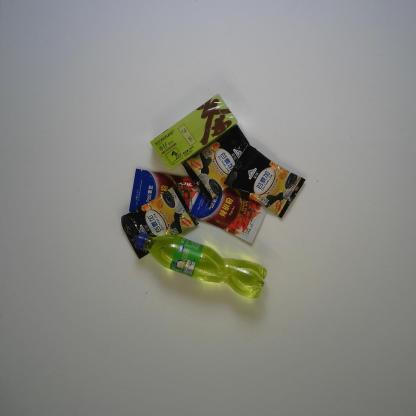Drink: (134, 231, 267, 299)
Instant Drink: (149, 93, 239, 171), (223, 142, 306, 220), (120, 184, 200, 260), (180, 124, 253, 201)
Seasoner: (189, 189, 268, 244), (128, 167, 200, 219)
